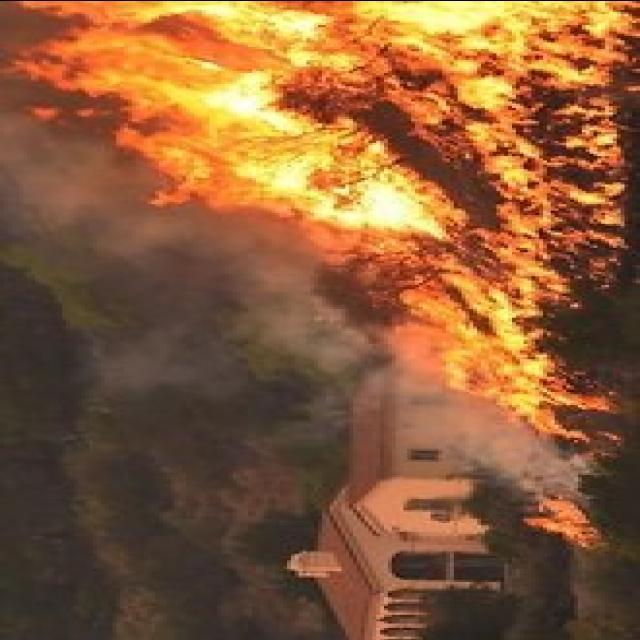Fire: (20, 0, 640, 448)
